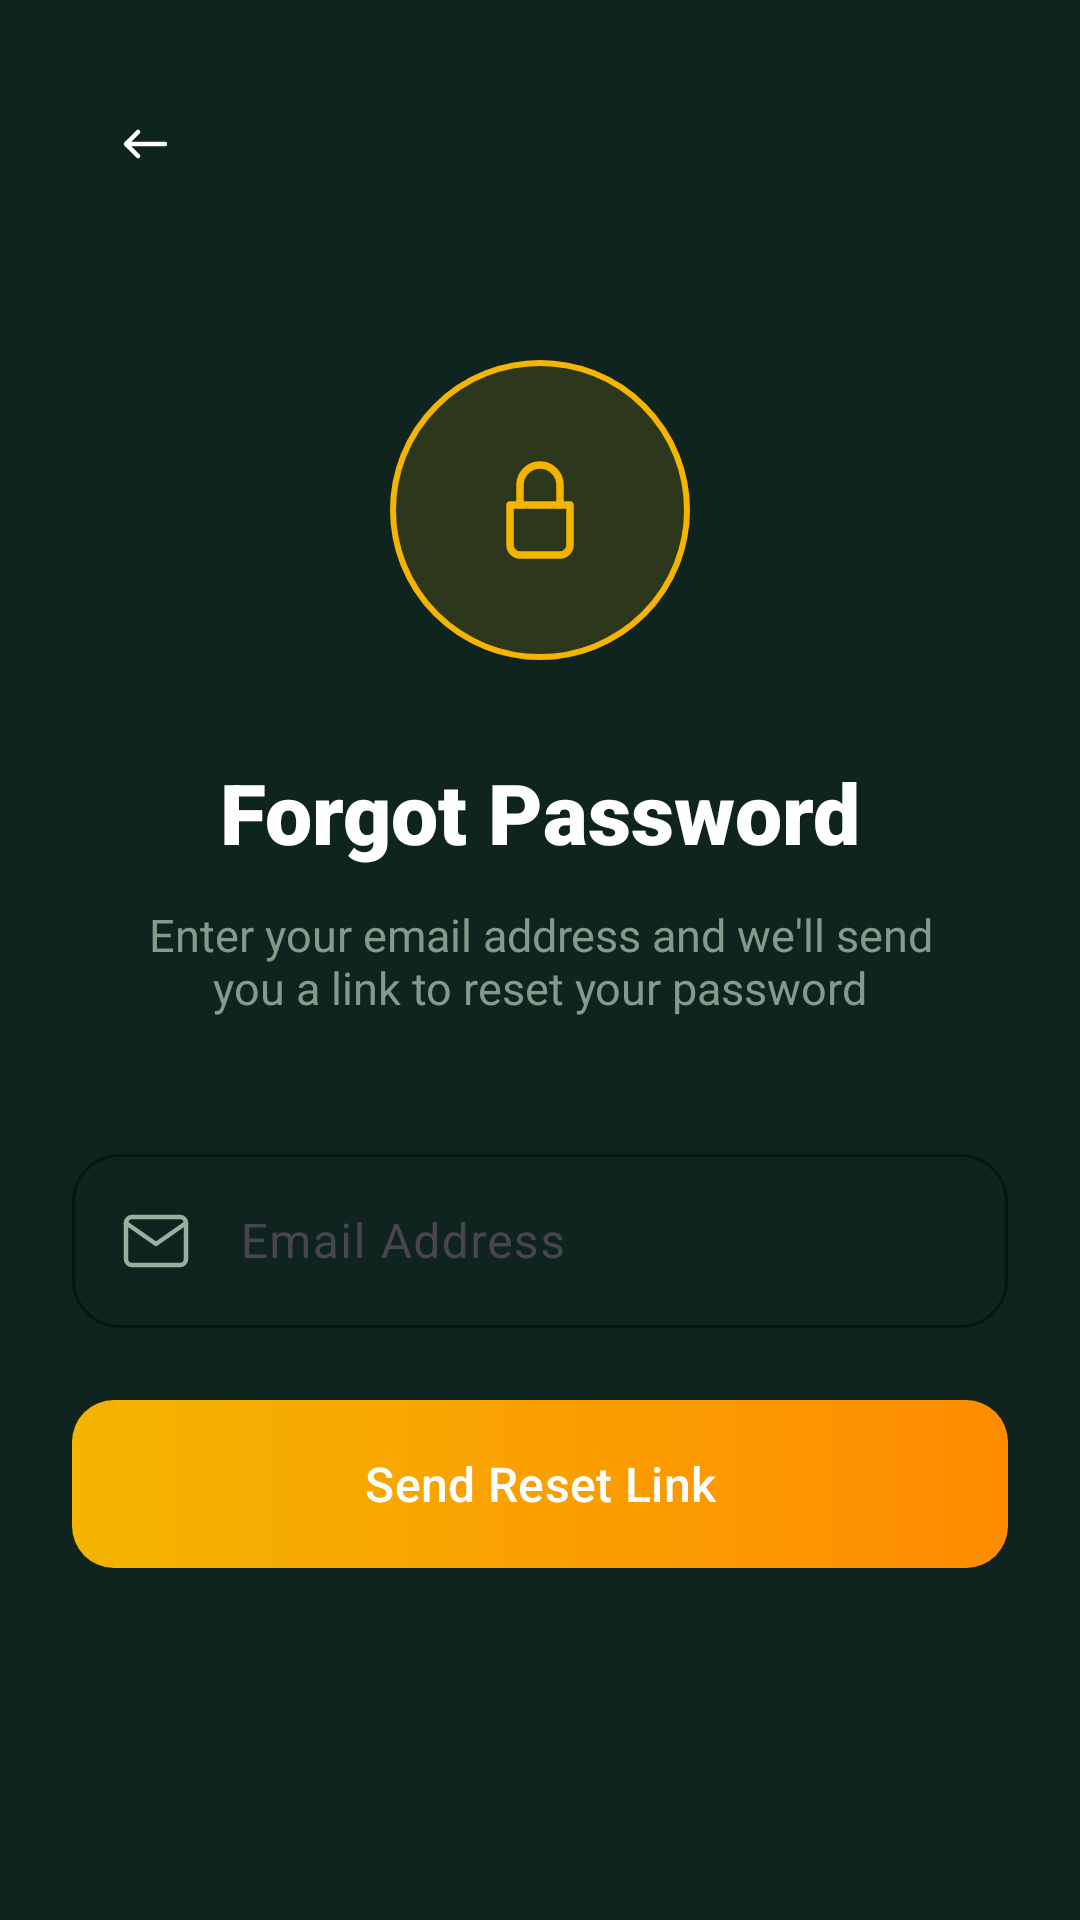

Locate icon controls on the screen. Image size 1080w x 1920h, boxes as [x1,y1,x2,y2].
Go back: [123,129,167,159]
Lock icon: [506,461,574,559]
